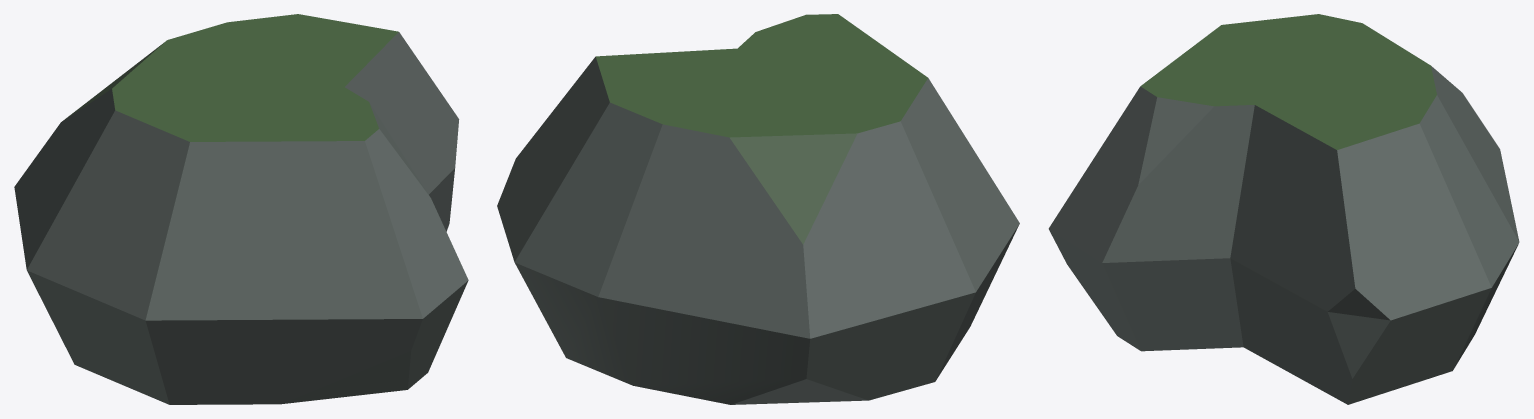
Rendered from rn_rock_low.glb.
3 views of the same model, side by side, from view 1: azimuth 30°, elevation 25°; view 2: azimuth 150°, elevation 25°; view 3: azimuth 270°, elevation 25° (orthographic). The views are drawn at different scales.
Parts seen in each view (by area): view 1: rn_rock_low; view 2: rn_rock_low; view 3: rn_rock_low.
Boxes of the visible parts, box(x1,y1,x2,y2) form: rn_rock_low: box(14, 14, 468, 404); rn_rock_low: box(497, 14, 1019, 404); rn_rock_low: box(1048, 14, 1519, 404).
Size of the model in its own units: 3.21 by 1.7 by 3.09.
